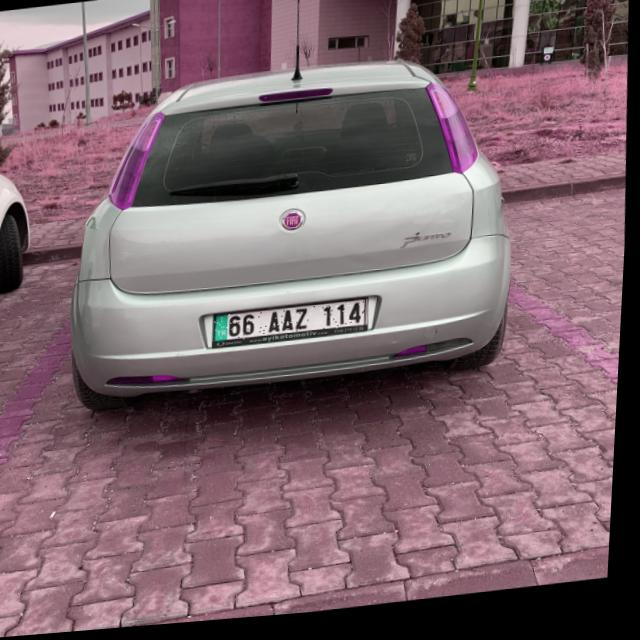license_plate: (217, 304, 370, 346)
